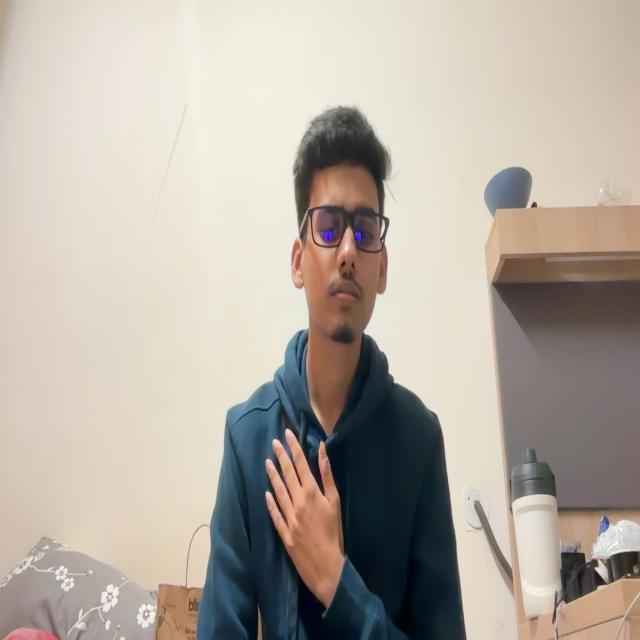Please: (248, 425, 375, 619)
